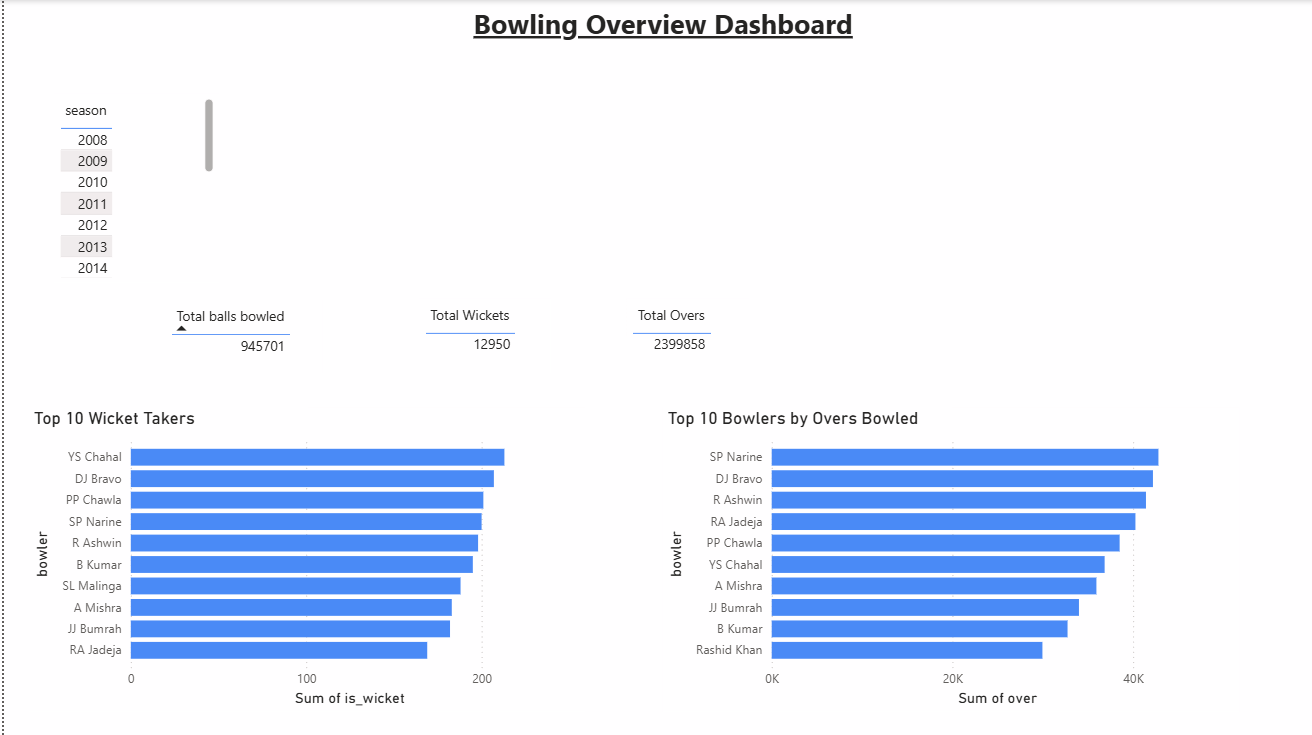

What the dashboard file says about the page in this screenshot:
{"tool":"powerbi","page":{"name":"Page 4","canvas":[1280,720],"ordinal":3},"visuals":[{"type":"textbox","box":[10,0,1270,78.8],"z":0},{"type":"tableEx","fields":{"Values":["matches_cleaned.season"]},"box":[48.8,91.2,161.2,185],"z":1},{"type":"tableEx","fields":{"Values":["Sum(deliveries_cleaned.is_wicket)"]},"box":[406.2,292.5,128.8,78.8],"z":2},{"type":"tableEx","fields":{"Values":["Sum(deliveries_cleaned.ball)"]},"box":[157.5,293.8,153.8,78.8],"z":3},{"type":"tableEx","fields":{"Values":["Sum(deliveries_cleaned.over)"]},"box":[608.8,292.5,120,78.8],"z":4},{"type":"barChart","title":"Top 10 Wicket Takers","fields":{"Category":["deliveries_cleaned.bowler"],"Y":["Sum(deliveries_cleaned.is_wicket)"]},"box":[25,398.8,543.8,297.5],"z":5},{"type":"clusteredBarChart","title":"Top 10 Bowlers by Overs Bowled","fields":{"Category":["deliveries_cleaned.bowler"],"Y":["Sum(deliveries_cleaned.over)"]},"box":[645,398.8,563.8,297.5],"z":6}]}

Visuals, with their boxes in screenshot pixels (x1, y1, x2, y2), scaled from the page's 1280x720 canvas onto the 1312x735 screenshot:
textbox: [x1=10, y1=0, x2=1311, y2=80]
tableEx - matches_cleaned.season: [x1=50, y1=93, x2=215, y2=282]
tableEx - Sum(deliveries_cleaned.is_wicket): [x1=416, y1=299, x2=548, y2=379]
tableEx - Sum(deliveries_cleaned.ball): [x1=161, y1=300, x2=319, y2=380]
tableEx - Sum(deliveries_cleaned.over): [x1=624, y1=299, x2=747, y2=379]
"Top 10 Wicket Takers" barChart: [x1=26, y1=407, x2=583, y2=711]
"Top 10 Bowlers by Overs Bowled" clusteredBarChart: [x1=661, y1=407, x2=1239, y2=711]
